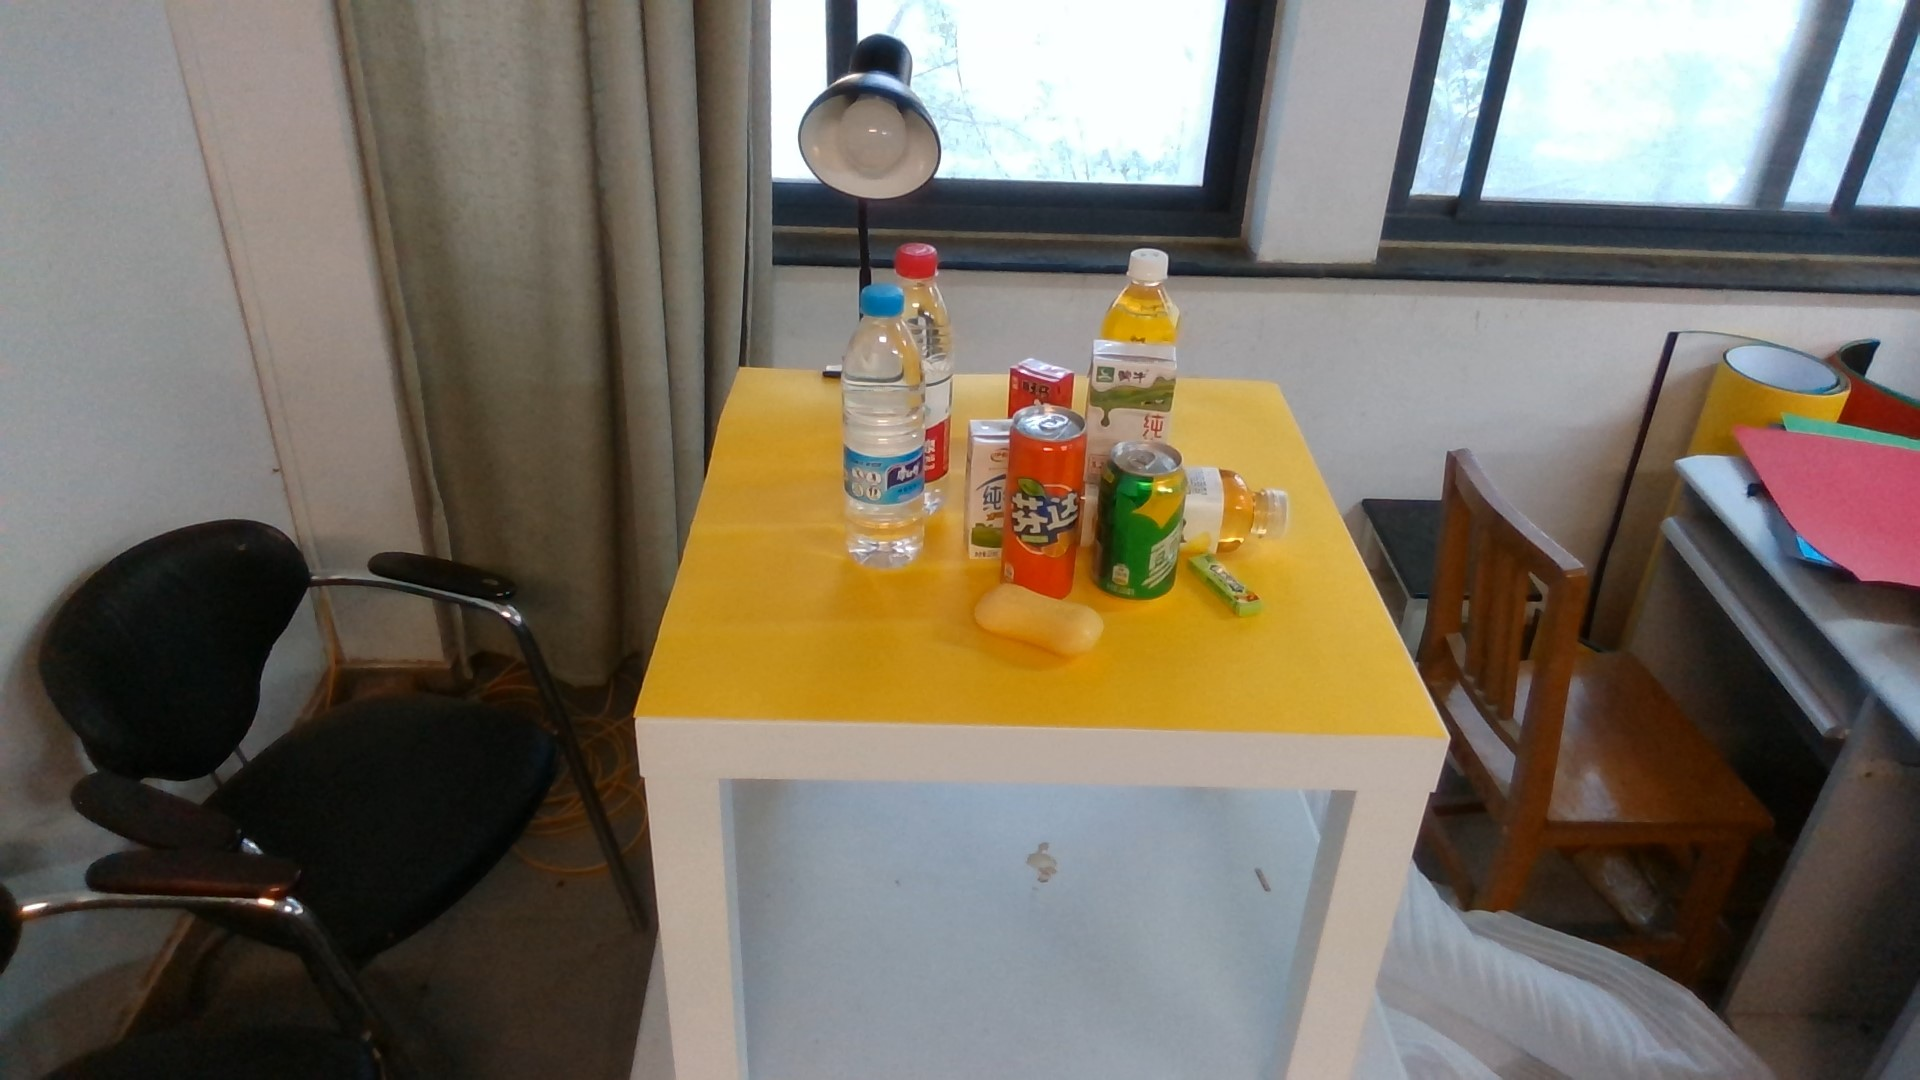BB002: (1189, 556, 1265, 617)
BB003: (975, 582, 1105, 655)
BB009: (1088, 335, 1180, 438)
BB012: (1005, 355, 1075, 404)
BB013: (967, 413, 1011, 563)
ZC001: (1093, 436, 1185, 597)
ZC003: (1009, 404, 1087, 585)
ZC011: (1097, 248, 1183, 338)
ZC012: (1188, 465, 1290, 556)
ZC014: (922, 243, 953, 517)
ZC019: (844, 282, 922, 570)
